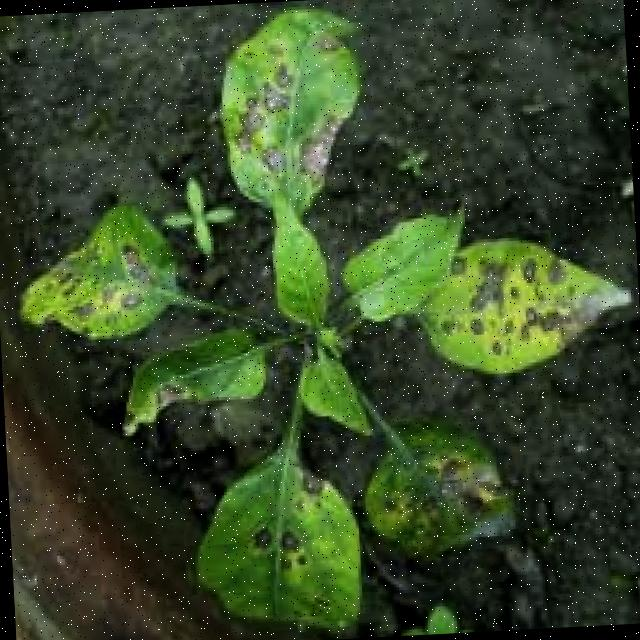leaf spot: (172, 439, 375, 640), (428, 212, 633, 382), (208, 10, 364, 201), (16, 194, 185, 346)
